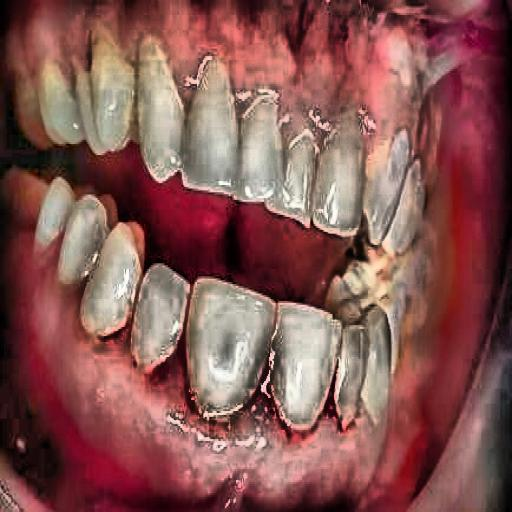Gingivitis: (134, 343, 398, 512), (15, 263, 130, 467)
